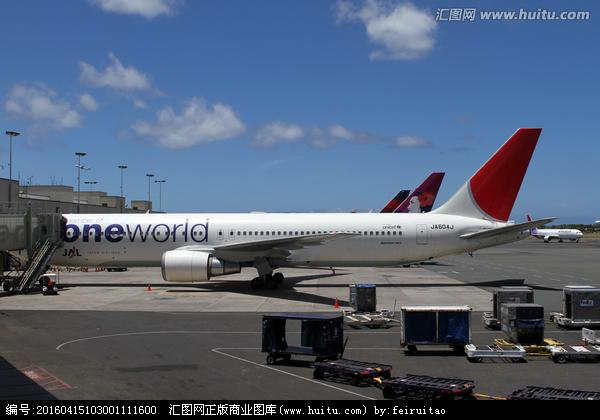airplane: (41, 123, 553, 276), (524, 212, 584, 244)
